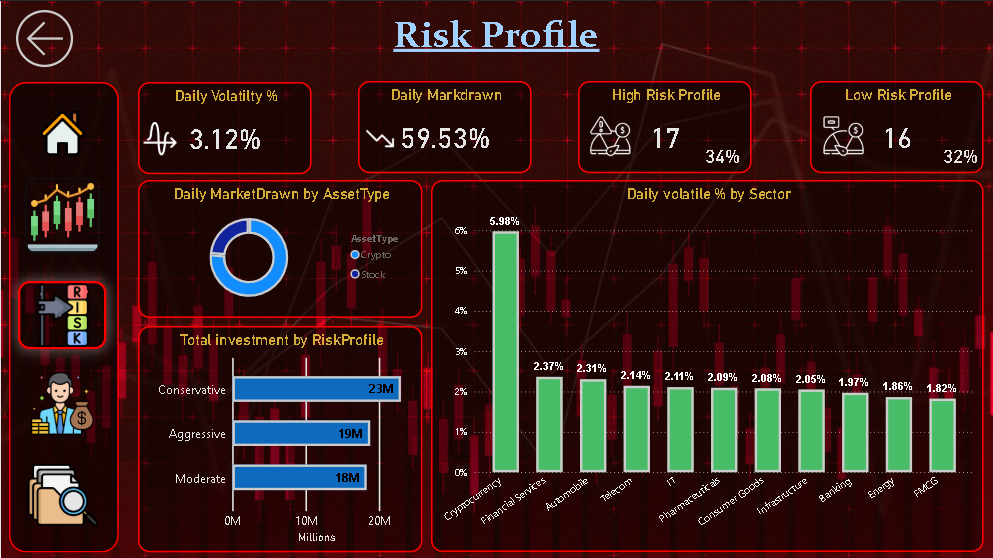

This screenshot's page, from the dashboard's own definition file:
{"tool":"powerbi","page":{"name":"Risk Profile ","canvas":[1280,720],"ordinal":3},"visuals":[{"type":"textbox","box":[472.8,7.2,334,82.4],"z":0},{"type":"shape","box":[10.1,104.1,141.7,607.2],"z":0,"group":"g1"},{"type":"card","title":"Daily Volatilty %","fields":{"Values":["measure.Daily volatile %"]},"box":[176.4,104.1,224.1,118.6],"z":0,"group":"g2"},{"type":"actionButton","box":[10.6,2.7,142.2,91.7],"z":1000},{"type":"card","title":"High Risk Profile","fields":{"Values":["measure.High Risk Profile"]},"box":[744.3,102.7,224.1,118.6],"z":1000,"group":"g4"},{"type":"image","box":[21.1,591.2,115.7,92.5],"z":1000,"group":"g1"},{"type":"card","title":"Daily Markdrawn","fields":{"Values":["measure.Daily MarketDrawn"]},"box":[460.6,102.7,224.1,118.6],"z":2000,"group":"g3"},{"type":"group","id":"g1","title":"Group 1","box":[10.1,104.1,141.7,607.2],"z":2000},{"type":"image","box":[18.9,141.6,120,57.8],"z":2000,"group":"g1"},{"type":"card","title":"Low Risk Profile","fields":{"Values":["measure.Low Risk Profile"]},"box":[1043.9,102.7,224.1,118.6],"z":3000,"group":"g5"},{"type":"image","box":[21.8,361.3,114.2,88.2],"z":3000,"group":"g1"},{"type":"barChart","fields":{"Category":["Dim_Investors.RiskProfile"],"Y":["measure.Total investment"]},"box":[176.4,419.3,367.2,292],"z":3000},{"type":"actionButton","box":[31,126.5,100.6,92.9],"z":4000},{"type":"image","box":[30.5,228.4,96.9,98.3],"z":4000,"group":"g1"},{"type":"actionButton","box":[28.4,231,100.6,92.9],"z":5000},{"type":"image","box":[38.5,478.4,81,81],"z":5000,"group":"g1"},{"type":"actionButton","box":[19.4,360,120,94.2],"z":6000},{"type":"card","fields":{"Values":["measure.High Risk profile %"]},"box":[896.6,177.9,69.4,43.4],"z":7000,"group":"g4"},{"type":"actionButton","box":[16.8,471,120,94.2],"z":7000},{"type":"image","box":[752,147.5,68,52],"z":8000,"group":"g4"},{"type":"actionButton","box":[18.1,589.7,120,94.2],"z":8000},{"type":"card","fields":{"Values":["measure.Low Risk Profile %"]},"box":[1208.7,177.9,59.3,43.4],"z":9000,"group":"g5"},{"type":"clusteredColumnChart","fields":{"Category":["Dim_assets.Sector"],"Y":["measure.Daily volatile %"]},"box":[555.2,231.3,712.8,480],"z":9000},{"type":"image","box":[1054,147.5,66.5,52],"z":10000,"group":"g5"},{"type":"donutChart","fields":{"Category":["Dim_assets.AssetType"],"Y":["measure.Daily MarketDrawn"]},"box":[176.4,231.3,367.2,177.8],"z":10000},{"type":"group","id":"g2","title":"Group 2","box":[176.4,104.1,224.1,118.6],"z":11000},{"type":"image","box":[460.1,156.2,56.4,43.4],"z":11000,"group":"g3"},{"type":"group","id":"g3","title":"Group 3","box":[460.1,102.7,224.6,118.6],"z":12000},{"type":"image","box":[176.4,156.1,56.4,43.4],"z":12000,"group":"g2"},{"type":"group","id":"g4","title":"Group 4","box":[744.3,102.7,224.1,118.6],"z":13000},{"type":"group","id":"g5","title":"Group 5","box":[1043.9,102.7,224.1,118.6],"z":14000}]}

Visuals, with their boxes in screenshot pixels (x1, y1, x2, y2), scaled from the page's 1280x720 canvas onto the 993x558 screenshot:
textbox: select_region(367, 6, 626, 69)
shape: select_region(8, 81, 118, 551)
"Daily Volatilty %" card: select_region(137, 81, 311, 173)
actionButton: select_region(8, 2, 119, 73)
"High Risk Profile" card: select_region(577, 80, 751, 172)
image: select_region(16, 458, 106, 530)
"Daily Markdrawn" card: select_region(357, 80, 531, 172)
"Group 1" group: select_region(8, 81, 118, 551)
image: select_region(15, 110, 108, 155)
"Low Risk Profile" card: select_region(810, 80, 984, 172)
image: select_region(17, 280, 106, 348)
barChart - Dim_Investors.RiskProfile x measure.Total investment: select_region(137, 325, 422, 551)
actionButton: select_region(24, 98, 102, 170)
image: select_region(24, 177, 99, 253)
actionButton: select_region(22, 179, 100, 251)
image: select_region(30, 371, 93, 434)
actionButton: select_region(15, 279, 108, 352)
card - measure.High Risk profile %: select_region(696, 138, 749, 172)
actionButton: select_region(13, 365, 106, 438)
image: select_region(583, 114, 636, 155)
actionButton: select_region(14, 457, 107, 530)
card - measure.Low Risk Profile %: select_region(938, 138, 984, 172)
clusteredColumnChart - Dim_assets.Sector x measure.Daily volatile %: select_region(431, 179, 984, 551)
image: select_region(818, 114, 869, 155)
donutChart - Dim_assets.AssetType x measure.Daily MarketDrawn: select_region(137, 179, 422, 317)
"Group 2" group: select_region(137, 81, 311, 173)
image: select_region(357, 121, 401, 155)
"Group 3" group: select_region(357, 80, 531, 172)
image: select_region(137, 121, 181, 155)
"Group 4" group: select_region(577, 80, 751, 172)
"Group 5" group: select_region(810, 80, 984, 172)
